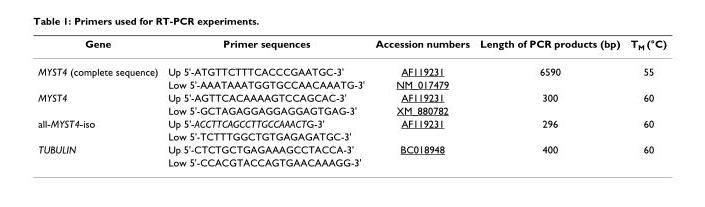table: (37, 37, 665, 167)
table column: (162, 37, 369, 167), (474, 37, 624, 167), (37, 37, 162, 167), (369, 37, 474, 167), (624, 37, 665, 167)
table column header: (37, 37, 665, 58)
table row: (37, 37, 665, 58), (37, 58, 665, 77), (37, 77, 665, 90), (37, 90, 665, 103), (37, 103, 665, 116), (37, 116, 665, 129), (37, 129, 665, 142), (37, 142, 665, 155), (37, 155, 665, 167)
table spanning cell: (37, 58, 162, 90), (37, 90, 162, 116), (37, 116, 162, 142), (37, 142, 162, 167)
